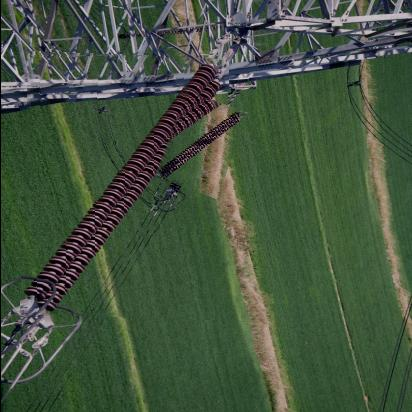insulator: (22, 54, 227, 320), (162, 96, 241, 196)
